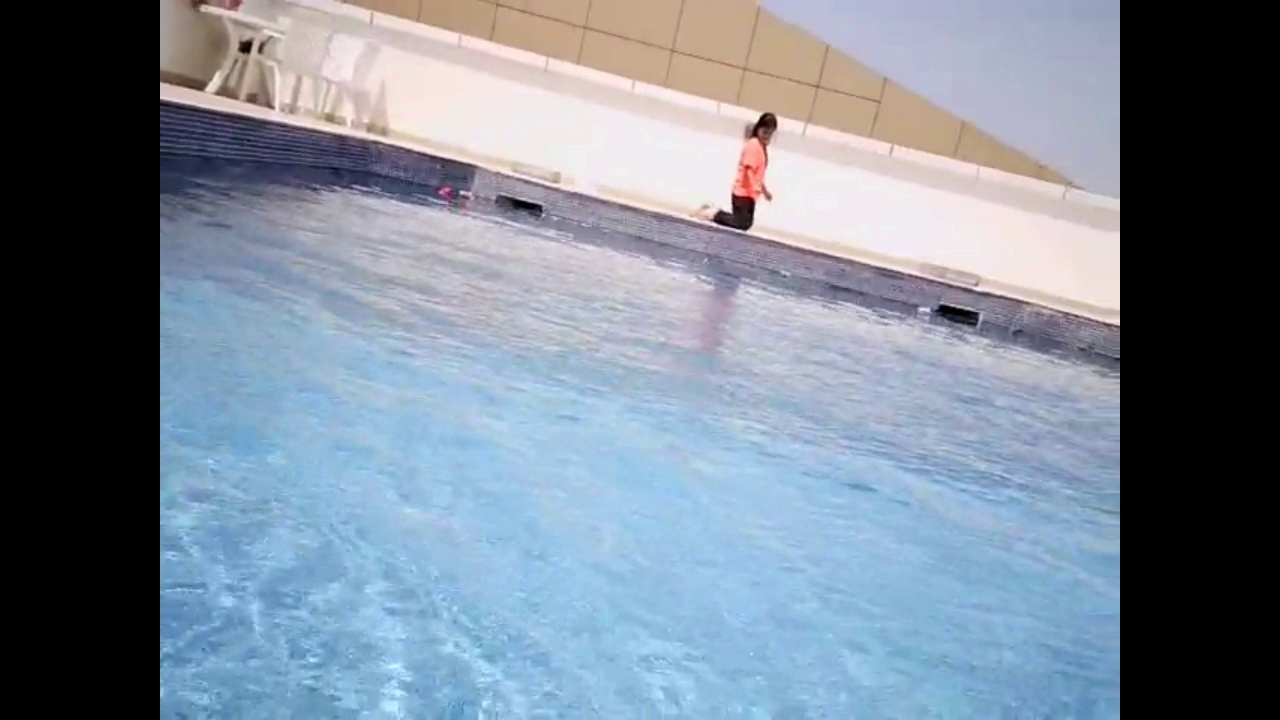debris: (911, 299, 935, 322), (454, 185, 478, 205), (1007, 322, 1026, 343), (436, 182, 454, 201), (776, 266, 796, 283), (1074, 339, 1090, 355)
